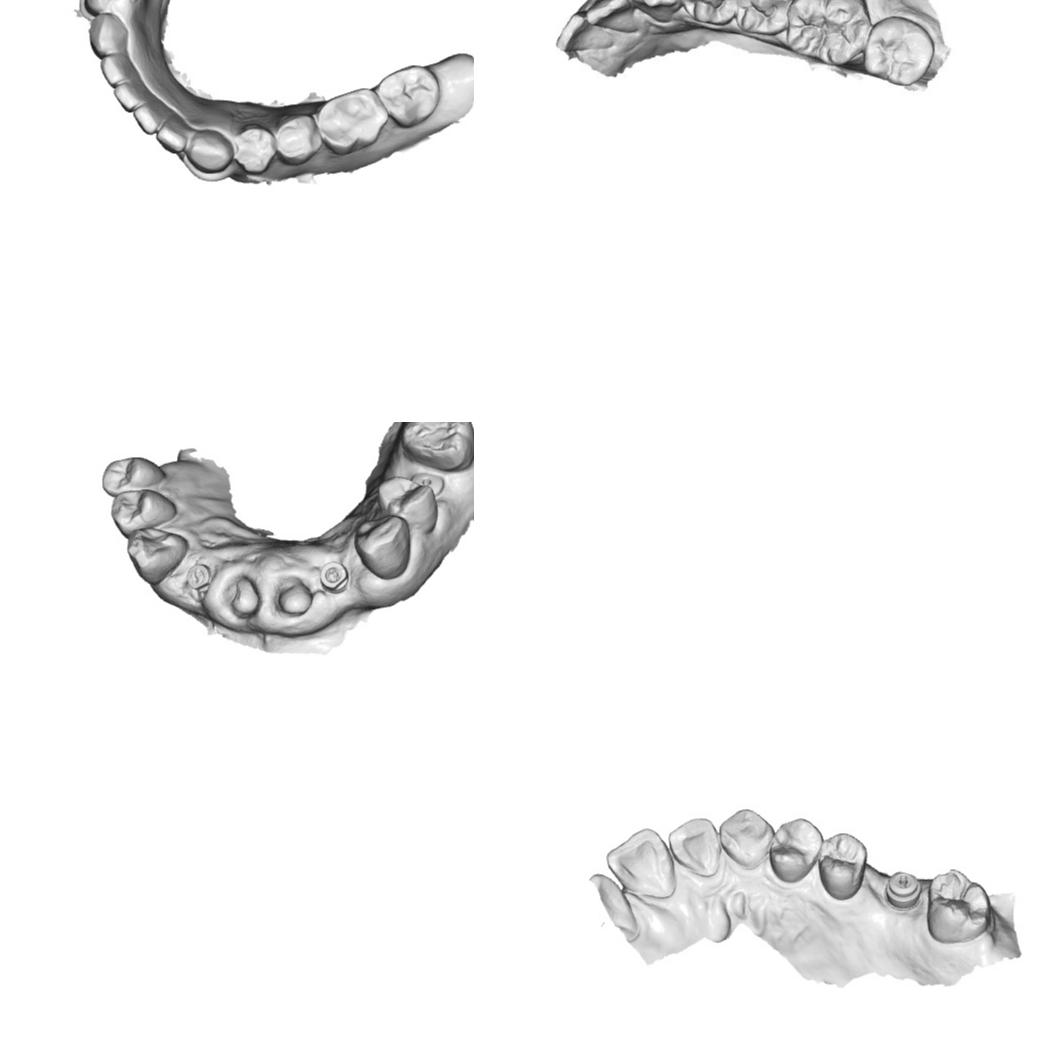canine: (352, 514, 411, 580), (125, 526, 189, 586), (716, 805, 772, 872), (186, 127, 234, 174), (86, 11, 128, 57), (633, 0, 683, 23)
implant: (318, 559, 350, 594), (410, 472, 446, 495), (186, 562, 212, 590)
implant_minus: (884, 868, 922, 911)
incisor: (604, 824, 677, 902), (666, 815, 720, 878), (555, 10, 616, 52), (584, 0, 640, 34), (99, 51, 134, 87), (154, 121, 188, 155), (132, 104, 162, 136), (113, 82, 144, 112)
molar: (783, 0, 869, 67), (311, 86, 390, 157), (860, 14, 936, 87), (924, 867, 992, 946), (377, 63, 441, 130), (399, 422, 474, 471)
premolar: (767, 816, 823, 885), (376, 475, 439, 535), (816, 831, 868, 902), (109, 488, 178, 538), (101, 455, 165, 497), (274, 112, 322, 166), (232, 122, 277, 174), (735, 0, 791, 36), (683, 0, 737, 31), (80, 0, 141, 16)
